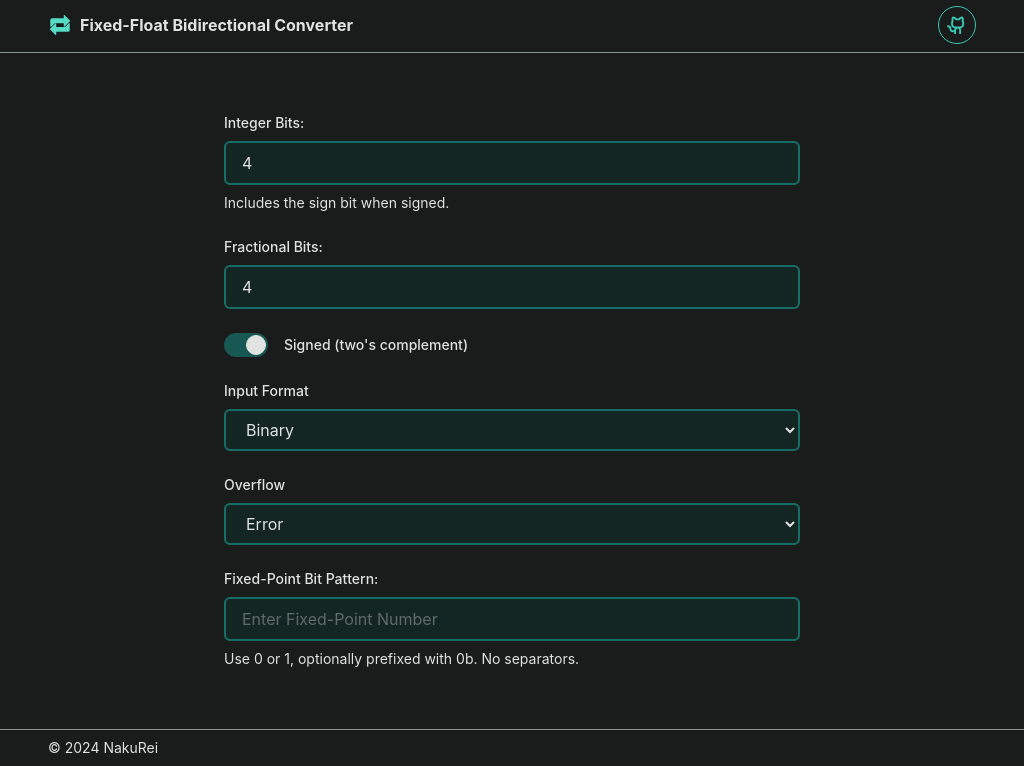
Original and converted output values › preserves +001.2800e0 entered as decimal
This screenshot has width=1024, height=766.
Select "Decimal" in the dropdown labelled "Input Format" at (512, 430), box [224,409,800,451]
(page scrolled)
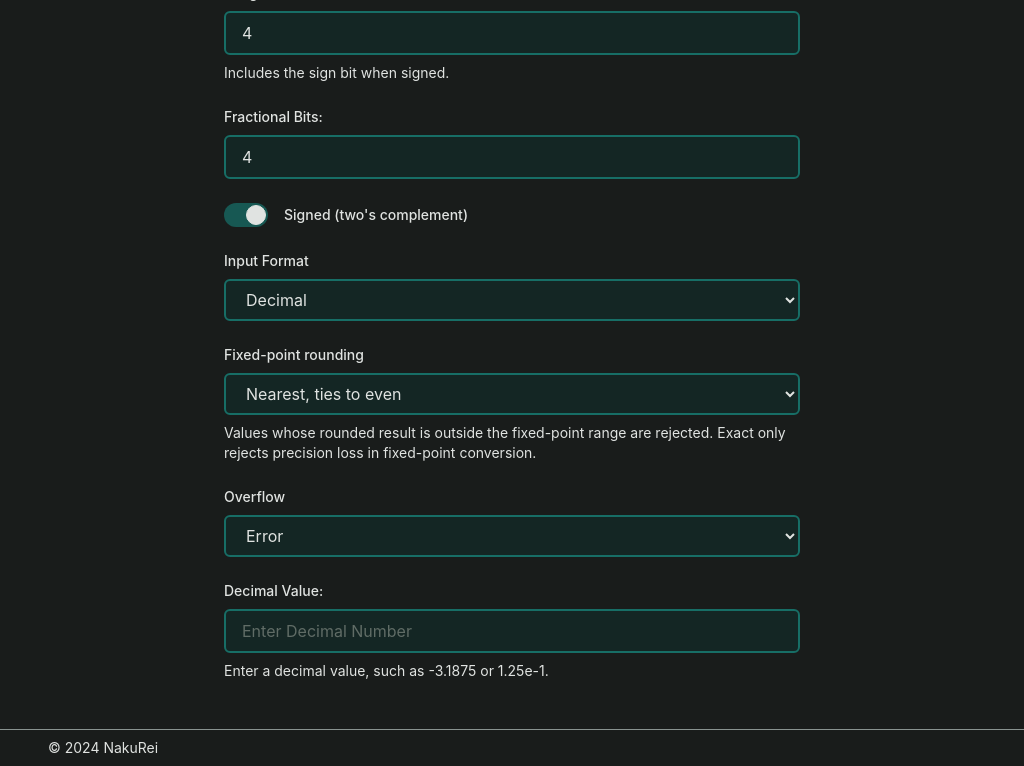
Type "+001.2800e0" into the field labelled "Decimal Value:" at (512, 631), box [224,609,800,653]
(page scrolled)
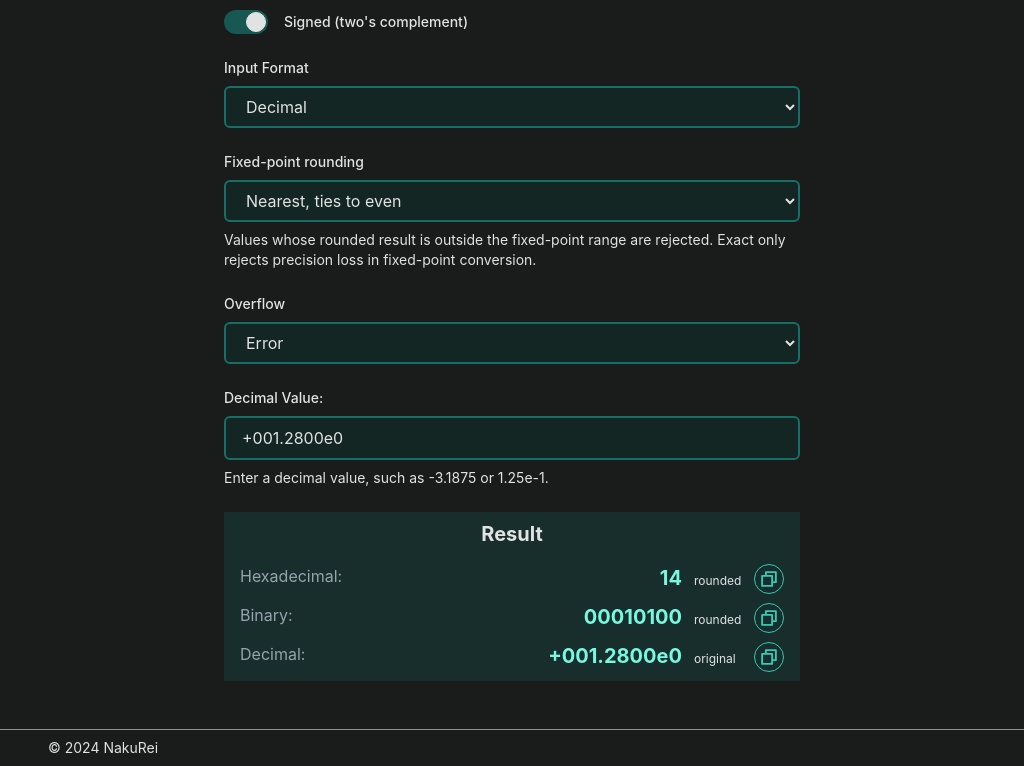
Check: the text "14" is shown, box [660,564,682,592]
Check: the text "rounded" next to "14" is shown, box [694,573,741,588]
Check: the text "00010100" is shown, box [584,603,682,631]
